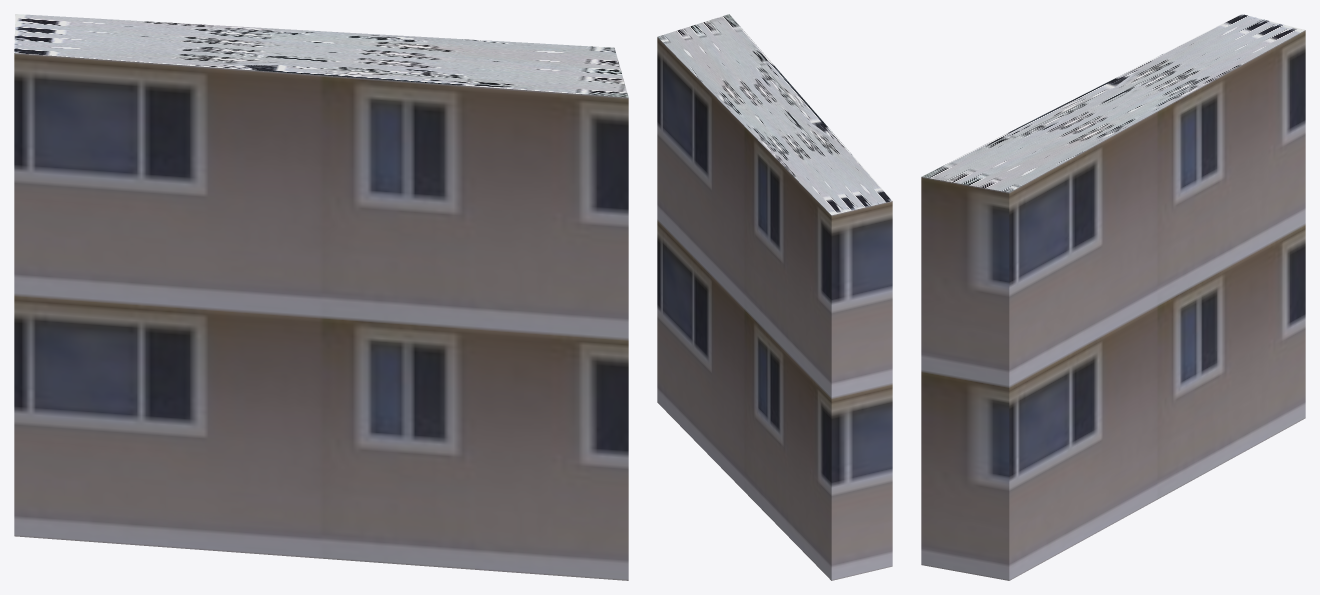
The model's file is ResTex__2851.fbx.
The picture shows the model from 3 angles, left to right: view 1: azimuth 30°, elevation 25°; view 2: azimuth 150°, elevation 25°; view 3: azimuth 270°, elevation 25°; orthographic projection. The views are drawn at different scales.
Visible parts, largest first — view 1: CityEngineMaterial_21_m, CityEngineMaterial_8_m; view 2: CityEngineMaterial_21_m, CityEngineMaterial_8_m; view 3: CityEngineMaterial_21_m, CityEngineMaterial_8_m.
Boxes of the visible parts, x1,y1,x2,y2 form: CityEngineMaterial_21_m: (14, 53, 628, 580); CityEngineMaterial_8_m: (14, 14, 628, 97); CityEngineMaterial_21_m: (657, 37, 892, 580); CityEngineMaterial_8_m: (657, 14, 892, 215); CityEngineMaterial_21_m: (921, 30, 1305, 580); CityEngineMaterial_8_m: (922, 14, 1304, 192).
Bounding box in the file's own units: 5.92 × 6 × 5.38.
Materials: 2 (2 with a texture image).
